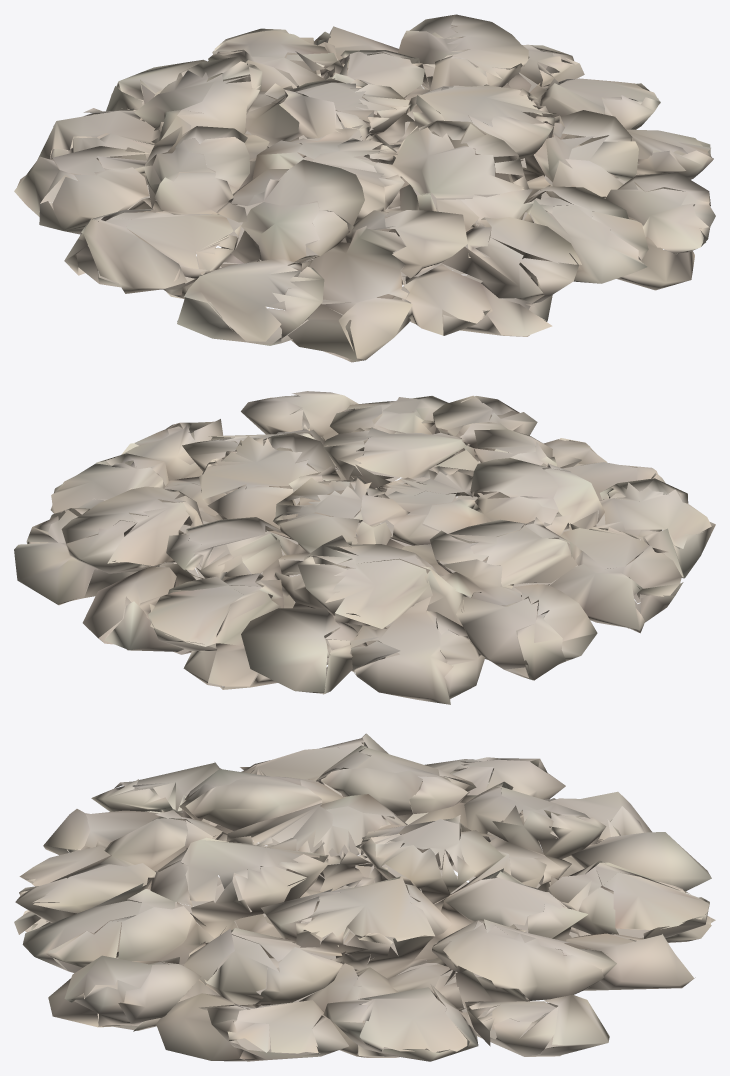
The model's file is triassic-daonella-bed.glb.
The picture shows the model from 3 angles, top to bottom: view 1: azimuth 30°, elevation 25°; view 2: azimuth 150°, elevation 25°; view 3: azimuth 270°, elevation 25°; orthographic projection. The views are drawn at different scales.
Visible parts, largest first — view 1: daonella-bed; view 2: daonella-bed; view 3: daonella-bed.
Part boxes in pixels (x1,y1,x2,y2): daonella-bed: (14, 14, 715, 362); daonella-bed: (14, 391, 715, 704); daonella-bed: (14, 733, 715, 1061).
Bounding box in the file's own units: 1.2 × 0.216 × 1.19.
